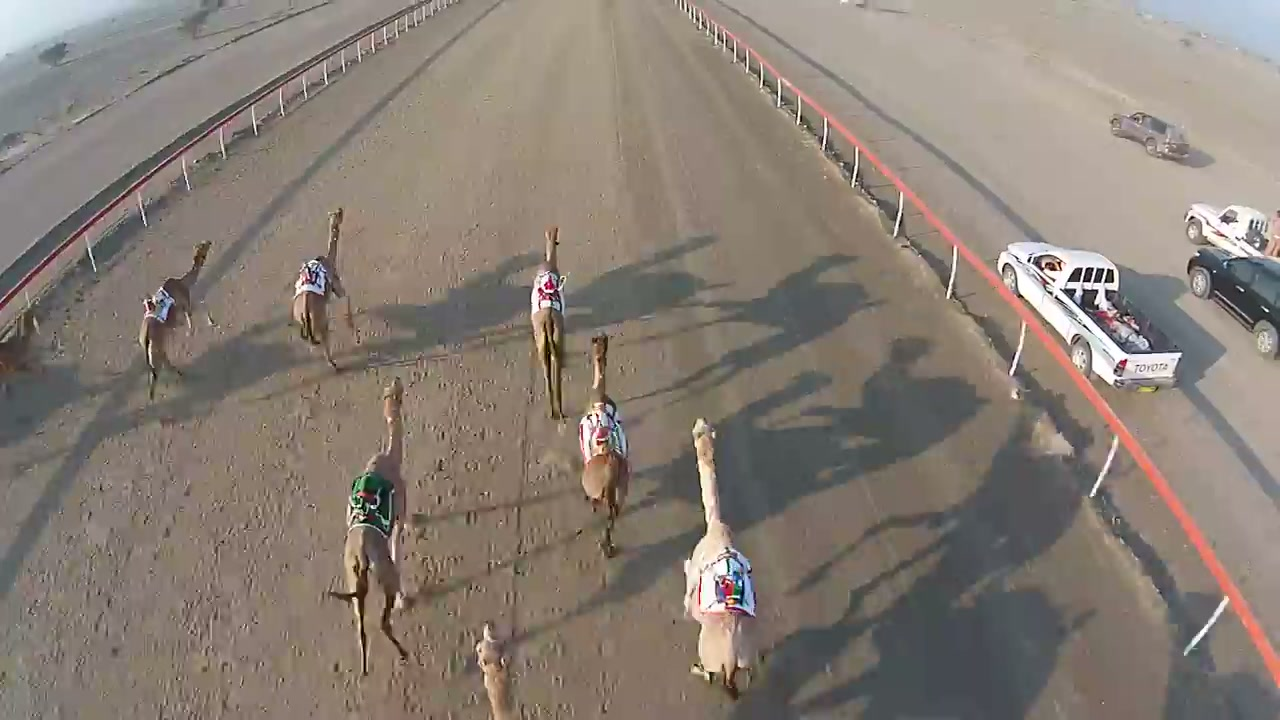animal_footprint: (186, 351, 353, 706), (422, 360, 589, 709), (53, 409, 206, 715)
